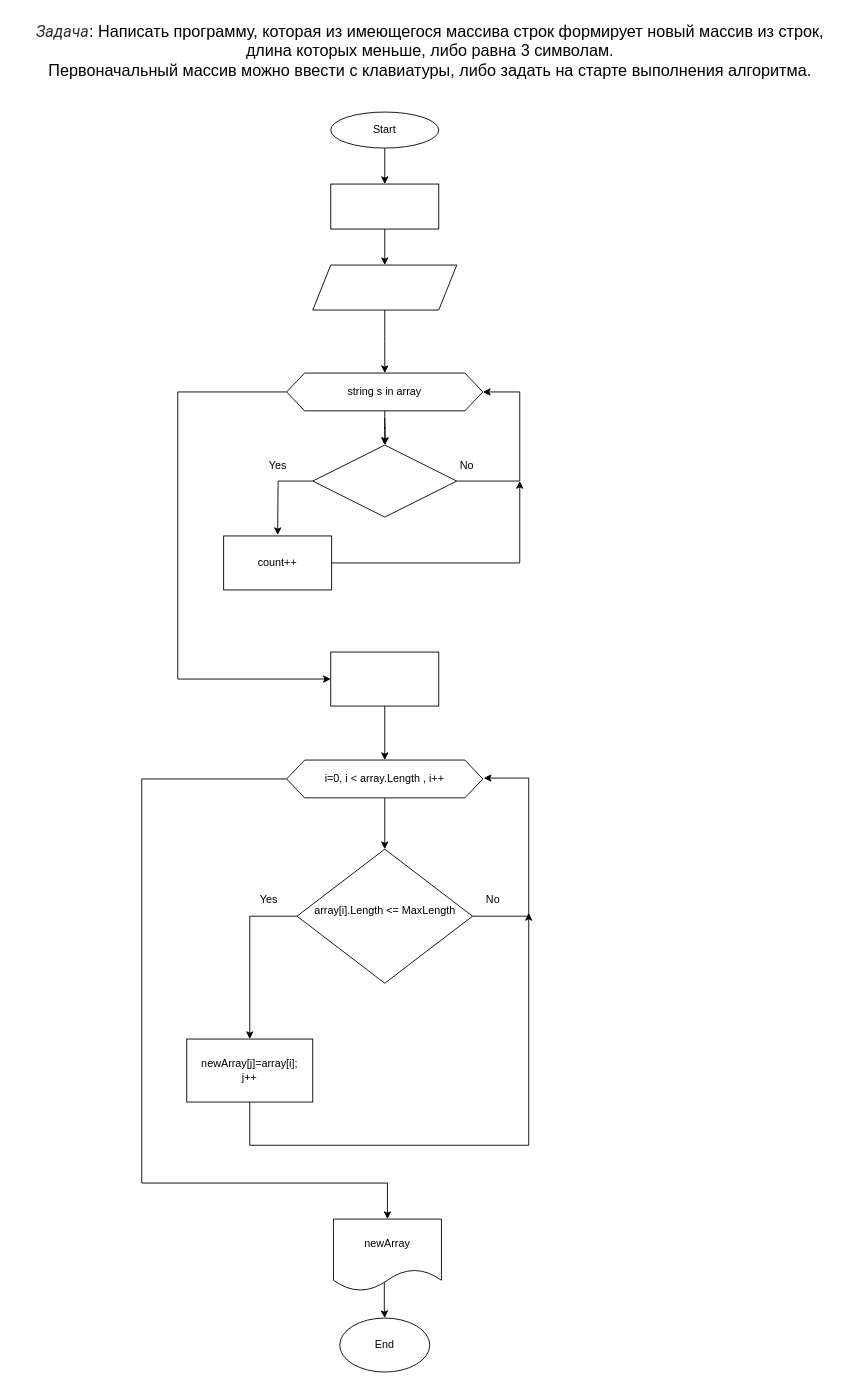
Image size: 859x1388. Some labels were removed from this diagram. The centre of each missing label's shape, as x and y in pixels:
Enter string array: (384,287)
MaxLength=3: (384,206)
newArray[count]; j=0: (384,678)
s.Length <= MaxLength: (384,480)
